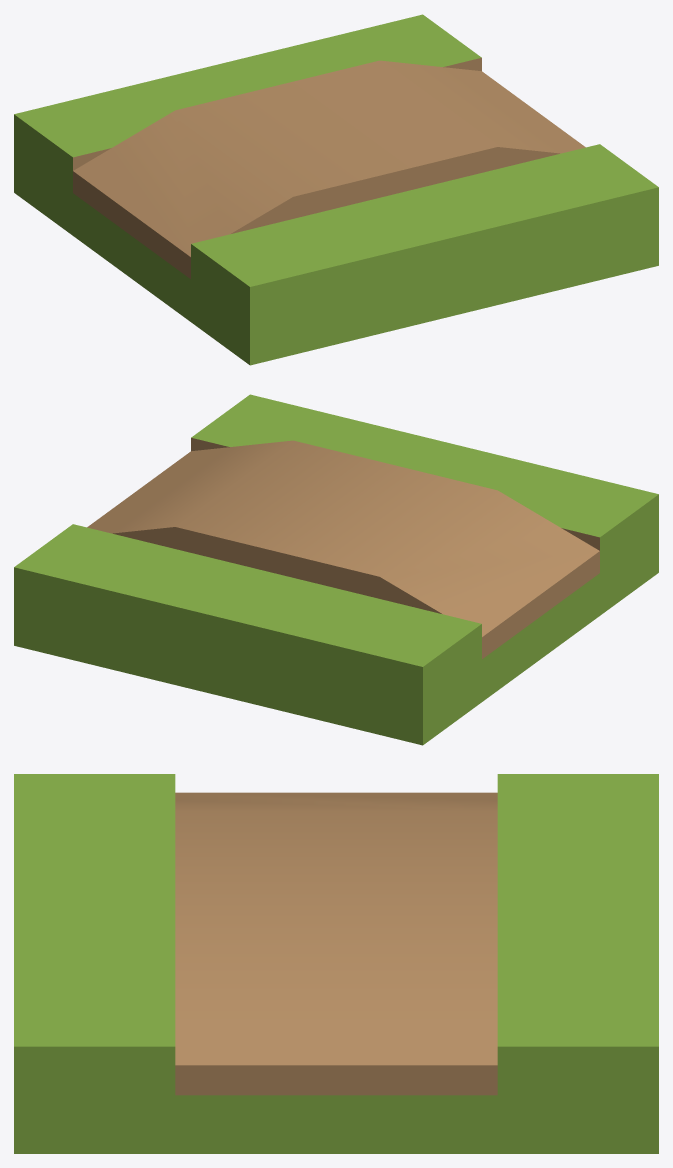
File: roadTile_024.fbx
The picture shows the model from 3 angles, top to bottom: view 1: azimuth 30°, elevation 25°; view 2: azimuth 150°, elevation 25°; view 3: azimuth 270°, elevation 25°; orthographic projection. The views are drawn at different scales.
Visible parts, largest first — view 1: roadTile_024; view 2: roadTile_024; view 3: roadTile_024.
Boxes of the visible parts, x1=… form: roadTile_024: x1=14, y1=14, x2=658, y2=365; roadTile_024: x1=14, y1=394, x2=658, y2=745; roadTile_024: x1=14, y1=774, x2=658, y2=1153.
Size of the model in its own units: 118 by 27.76 by 118.
